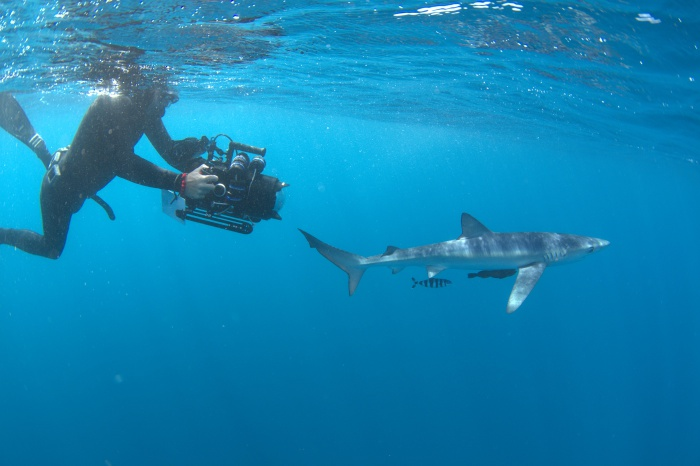Azul: (296, 204, 626, 319)
